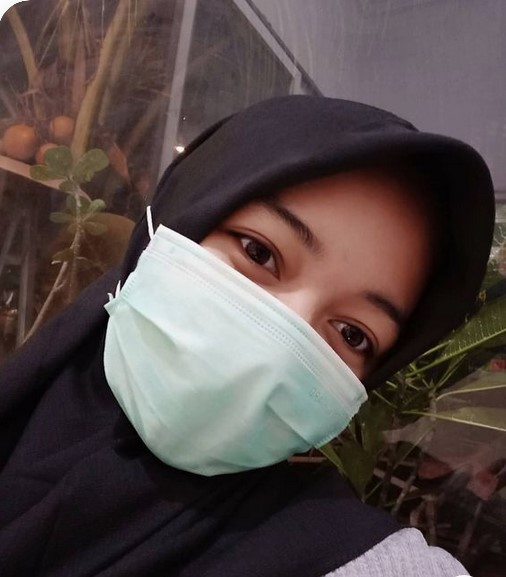face_with_mask: (103, 105, 487, 489)
